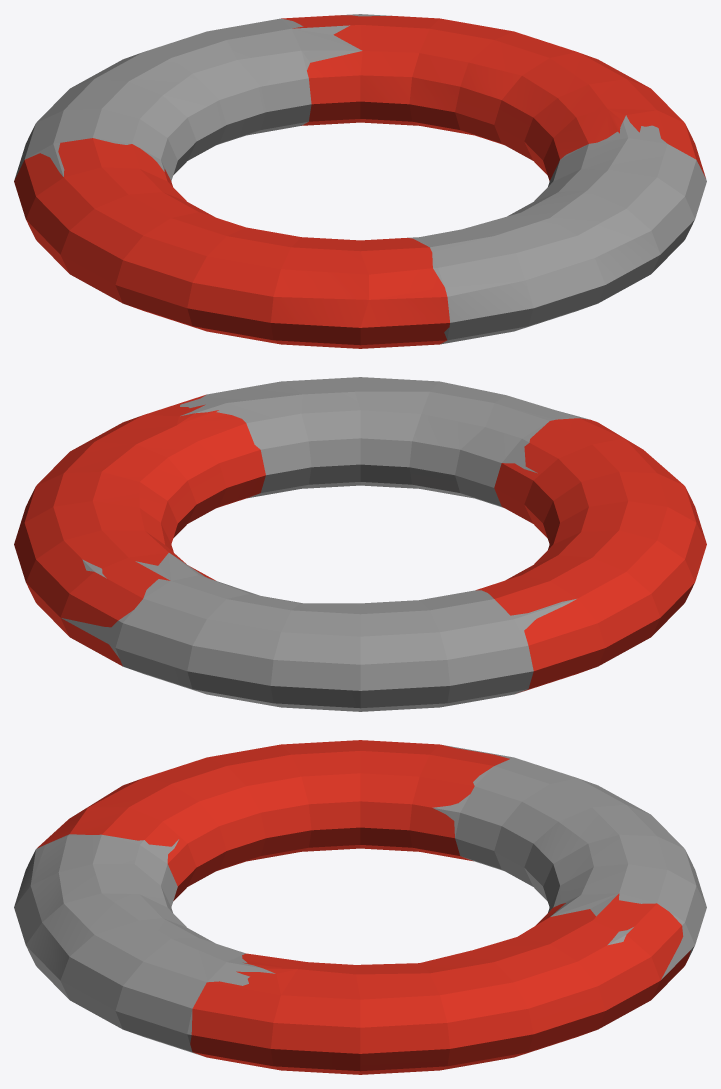
File: prop_1.FBX
The picture shows the model from 3 angles, top to bottom: view 1: azimuth 30°, elevation 25°; view 2: azimuth 150°, elevation 25°; view 3: azimuth 270°, elevation 25°; orthographic projection.
Visible parts, largest first — view 1: Prop_1; view 2: Prop_1; view 3: Prop_1.
Part boxes in pixels (x1,y1,x2,y2): Prop_1: (14, 14, 706, 348); Prop_1: (14, 377, 706, 711); Prop_1: (14, 740, 706, 1074).
Bounding box in the file's own units: 48.65 × 6.73 × 48.65.
